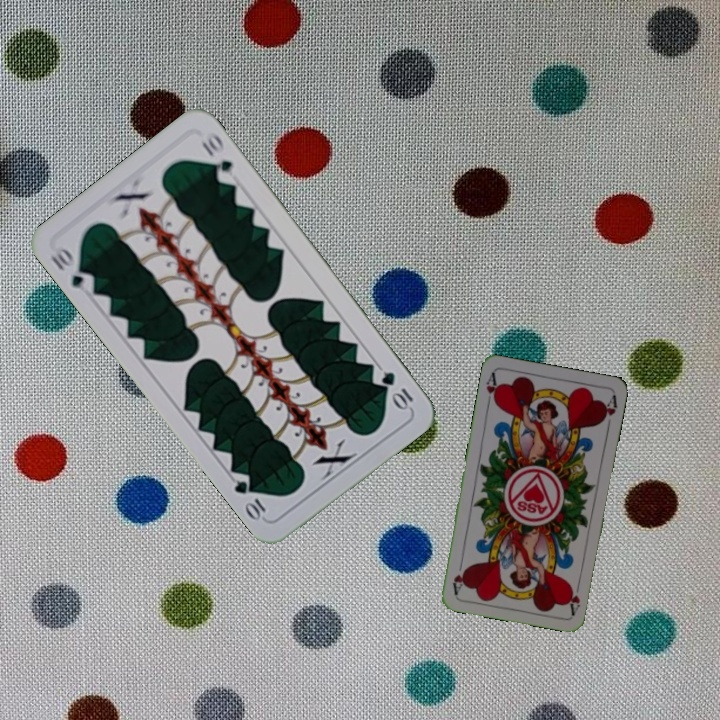G10: (47, 242, 98, 296), (377, 367, 416, 413)
HA: (482, 369, 501, 410), (564, 576, 583, 617)
